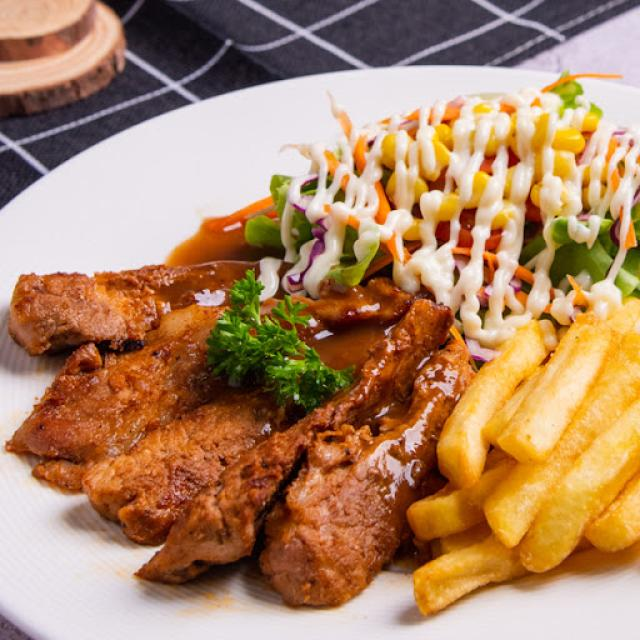Carbohydrate: (406, 297, 640, 614)
Protein: (1, 254, 471, 611)
Steak: (0, 72, 640, 630)
Vegetable: (242, 74, 640, 334)
